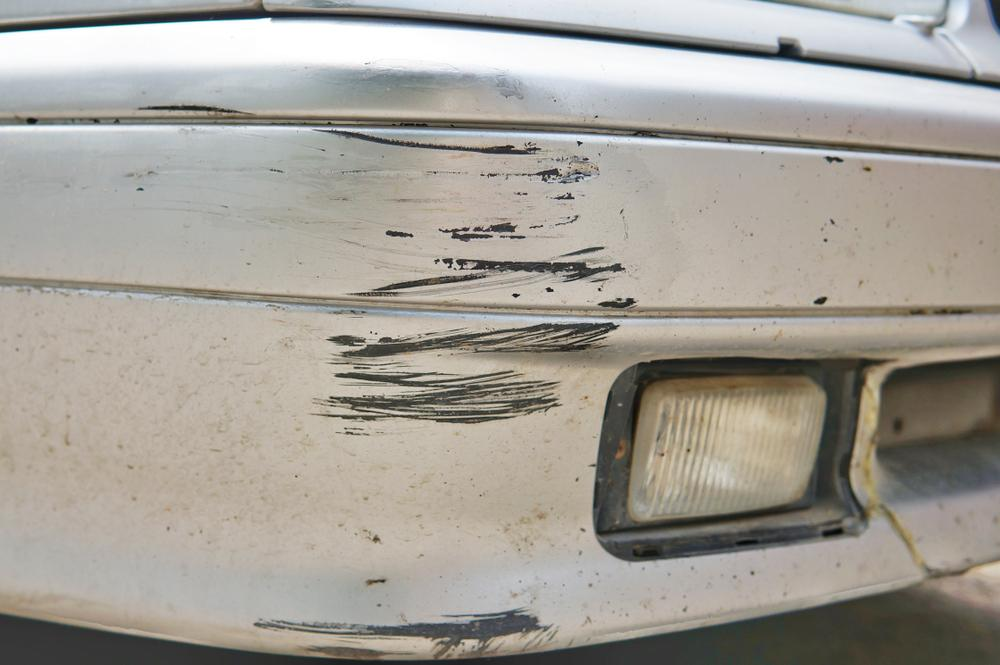scratch: (309, 120, 660, 435), (257, 602, 562, 665)
